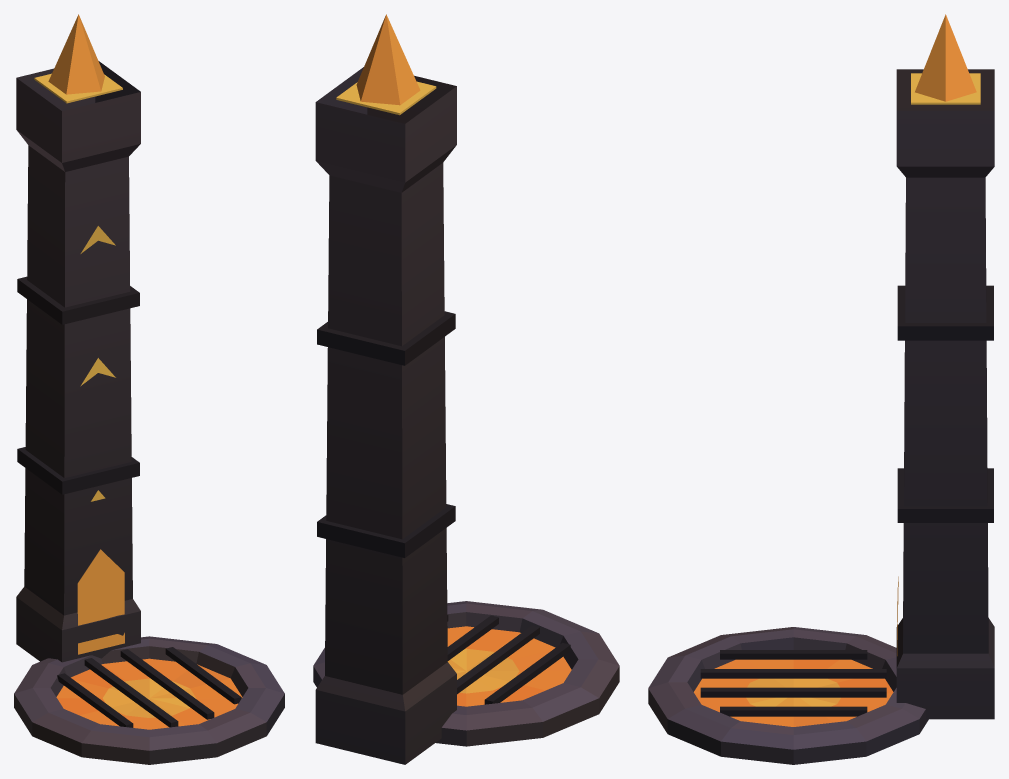
File: shortcut_vent_up.glb
3 renders of one model, left to right at view 1: azimuth 30°, elevation 25°; view 2: azimuth 150°, elevation 25°; view 3: azimuth 270°, elevation 25°, orthographic. The views are drawn at different scales.
Visible parts, largest first — view 1: shortcut_vent_up; view 2: shortcut_vent_up; view 3: shortcut_vent_up.
Part boxes in pixels (<box>): shortcut_vent_up: <box>14,14,284,764</box>; shortcut_vent_up: <box>313,14,619,764</box>; shortcut_vent_up: <box>648,14,994,764</box>.
Bounding box in the file's own units: 2.6 × 6.8 × 3.1.
